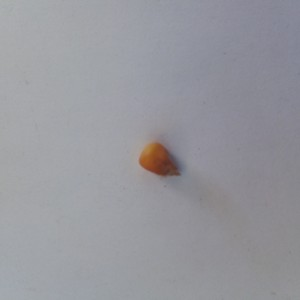maiz: (134, 139, 186, 183)
